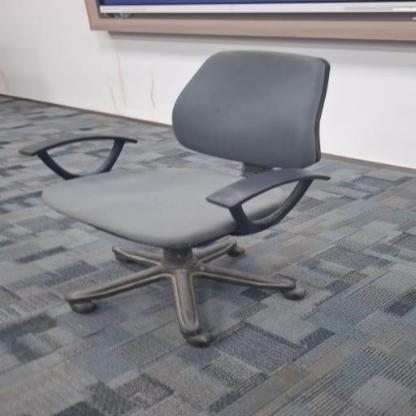chair: (11, 39, 341, 350)
